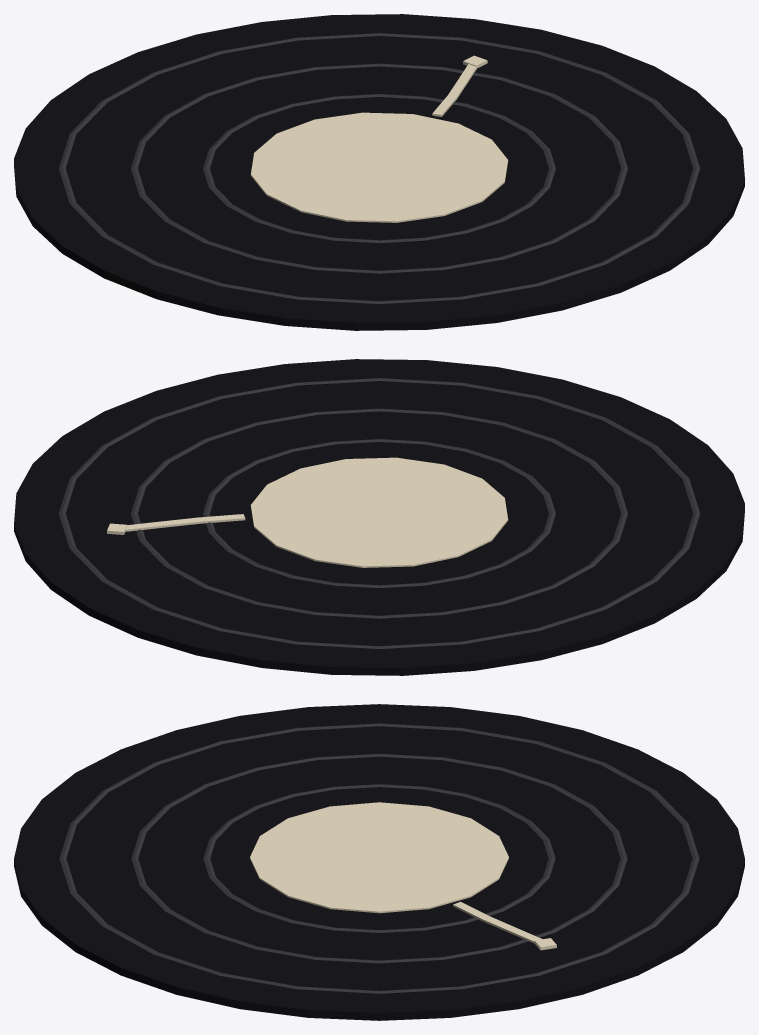
Rendered from Prop_YTM_Record_Scratched.glb.
3 views of the same model, one above another, from view 1: azimuth 30°, elevation 25°; view 2: azimuth 150°, elevation 25°; view 3: azimuth 270°, elevation 25° (orthographic).
Visible parts, largest first — view 1: Prop_YTM_Record_Scratched; view 2: Prop_YTM_Record_Scratched; view 3: Prop_YTM_Record_Scratched.
Boxes of the visible parts, x1,y1,x2,y2 form: Prop_YTM_Record_Scratched: [14, 14, 744, 330]; Prop_YTM_Record_Scratched: [14, 359, 744, 675]; Prop_YTM_Record_Scratched: [14, 704, 744, 1020].
Size of what is drawn, in the model's own units: 0.254 by 0.0042 by 0.254.
